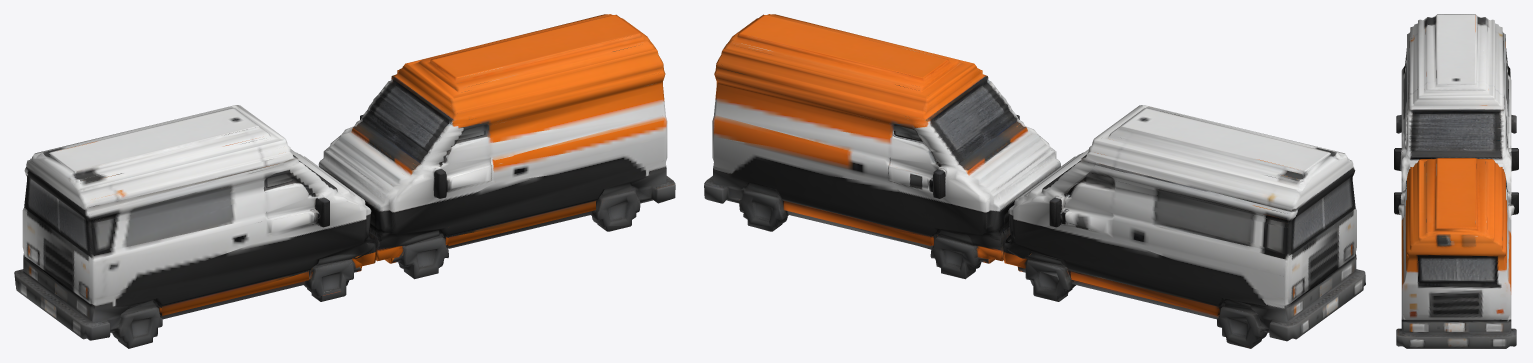
Rendered from huolala.glb.
3 views of the same model, side by side, from view 1: azimuth 30°, elevation 25°; view 2: azimuth 150°, elevation 25°; view 3: azimuth 270°, elevation 25° (orthographic). The views are drawn at different scales.
Bounding box in the file's own units: 2 × 0.5462 × 0.4723.
Materials: 1 (1 with a texture image).
